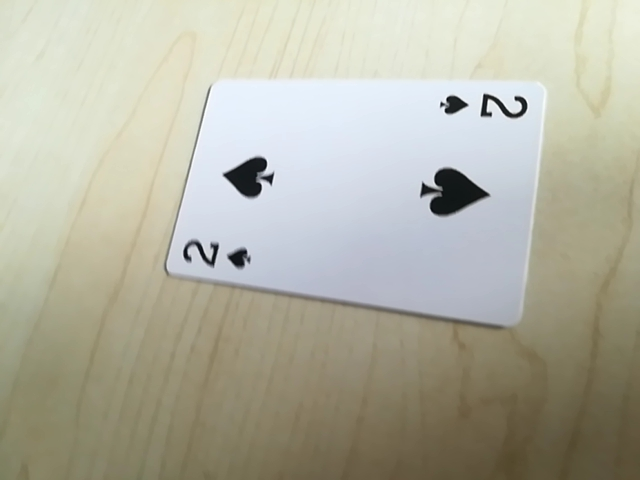ht 2: (434, 85, 532, 128), (175, 231, 258, 278)
